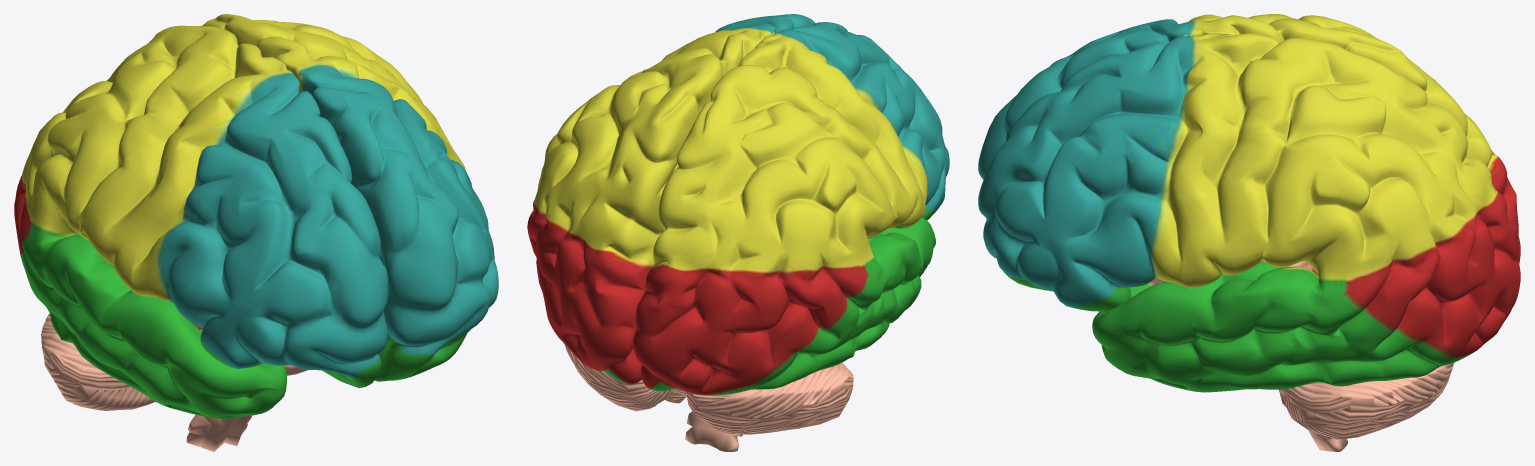
File: Brain.glb
The picture shows the model from 3 angles, left to right: view 1: azimuth 30°, elevation 25°; view 2: azimuth 150°, elevation 25°; view 3: azimuth 270°, elevation 25°; orthographic projection. The views are drawn at different scales.
Visible parts, largest first — view 1: Brain_Part_06, Brain_Part_04, Brain_Part_02, Brain_Part_05; view 2: Brain_Part_06, Brain_Part_04, Brain_Part_02, Brain_Part_05; view 3: Brain_Part_04, Brain_Part_06, Brain_Part_02, Brain_Part_05.
Part boxes in pixels (left/top/right/bottom): Brain_Part_06: left=14, top=25, right=388, bottom=418; Brain_Part_04: left=202, top=14, right=498, bottom=381; Brain_Part_02: left=41, top=313, right=156, bottom=410; Brain_Part_05: left=186, top=323, right=251, bottom=451; Brain_Part_06: left=633, top=22, right=949, bottom=395; Brain_Part_04: left=527, top=14, right=815, bottom=384; Brain_Part_02: left=564, top=344, right=853, bottom=434; Brain_Part_05: left=685, top=411, right=742, bottom=451; Brain_Part_04: left=978, top=33, right=1520, bottom=392; Brain_Part_06: left=978, top=14, right=1520, bottom=263; Brain_Part_02: left=1281, top=363, right=1453, bottom=439; Brain_Part_05: left=1148, top=258, right=1347, bottom=451.
Size of the model in its own units: 8.66 by 9.2 by 10.77.
Materials: 1 (1 with a texture image).
